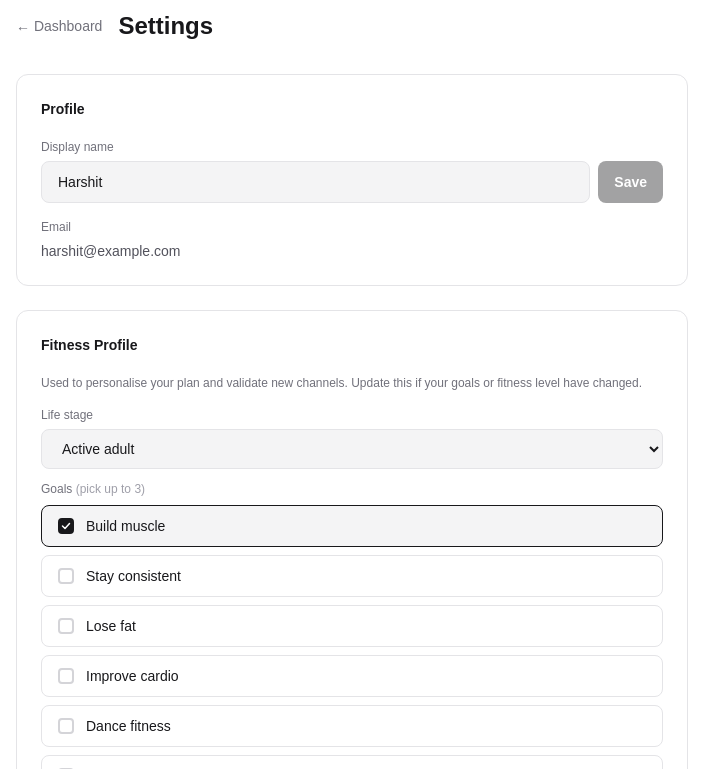
Test case: SettingsPage - display name › shows error message when patchMe fails
The image size is (705, 769).
Replace the text in the field showing "Harshit" with "New Name". click: (316, 182)
box: x1=41 y1=161 x2=590 y2=203
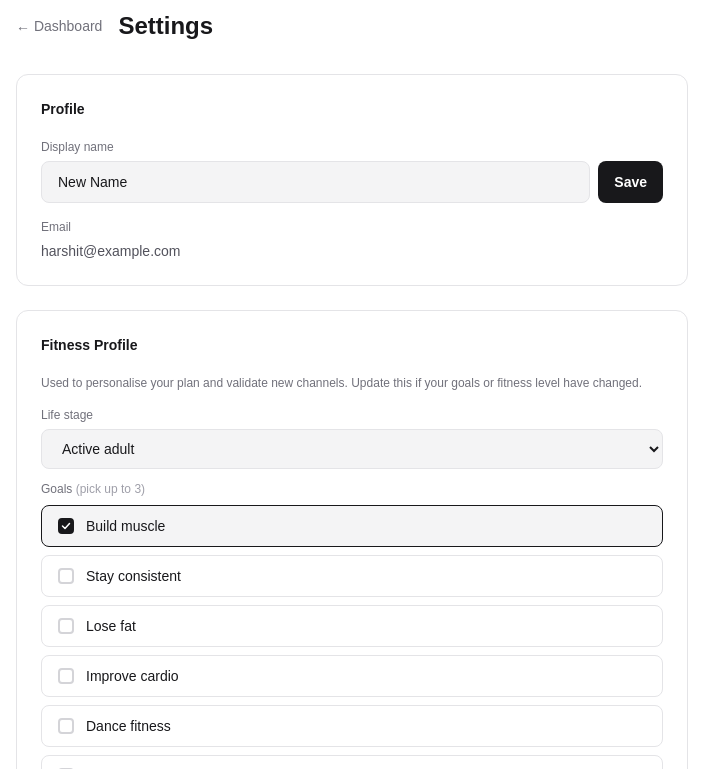
Click the button "Save". click: (631, 182)
box: x1=598 y1=161 x2=663 y2=203
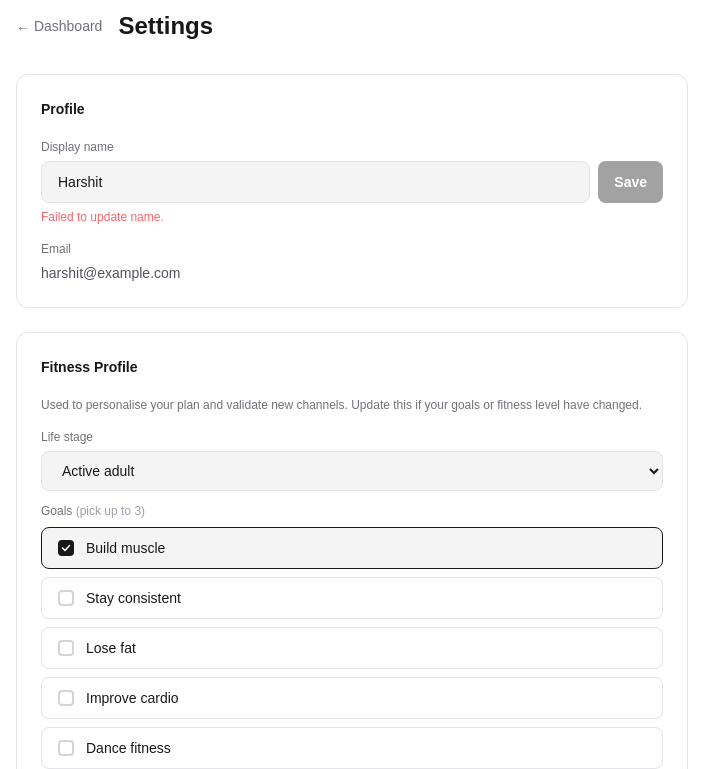
Now the text "Failed to update name." is shown, box x1=41 y1=210 x2=164 y2=224
